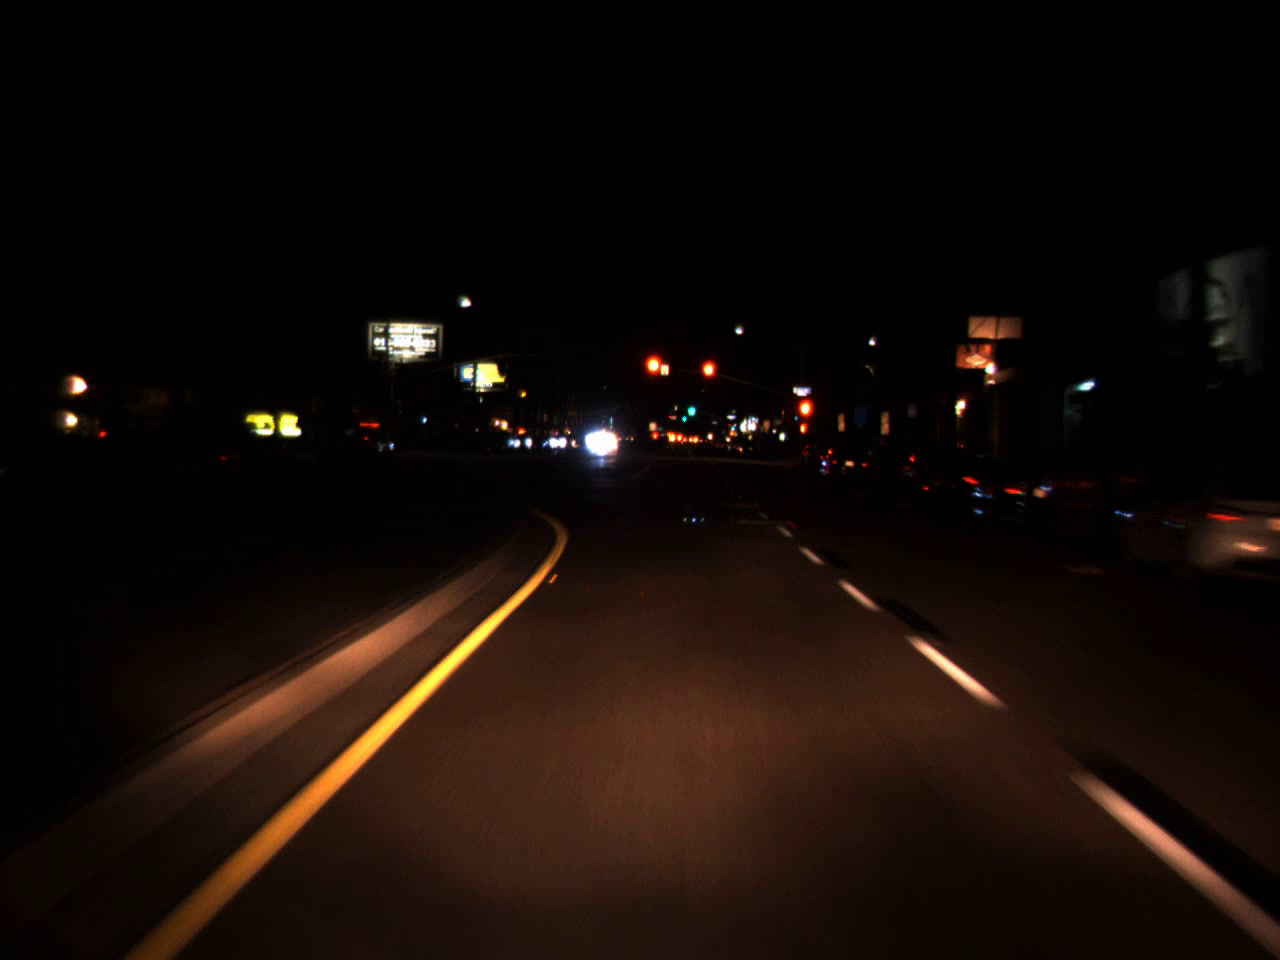go: (685, 396, 695, 417), (727, 419, 737, 431), (680, 409, 687, 424)
stop: (642, 351, 666, 399), (795, 396, 814, 439), (699, 358, 718, 395)
